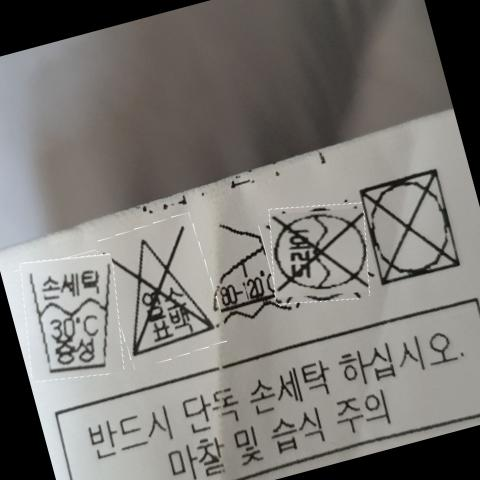DN_dry_clean: (276, 203, 367, 300)
DN_tumble_dry: (367, 173, 455, 289)
hand_wash: (34, 260, 114, 380)
iron_low: (210, 223, 273, 317)
non_chlorine_bleach: (126, 220, 206, 361)
